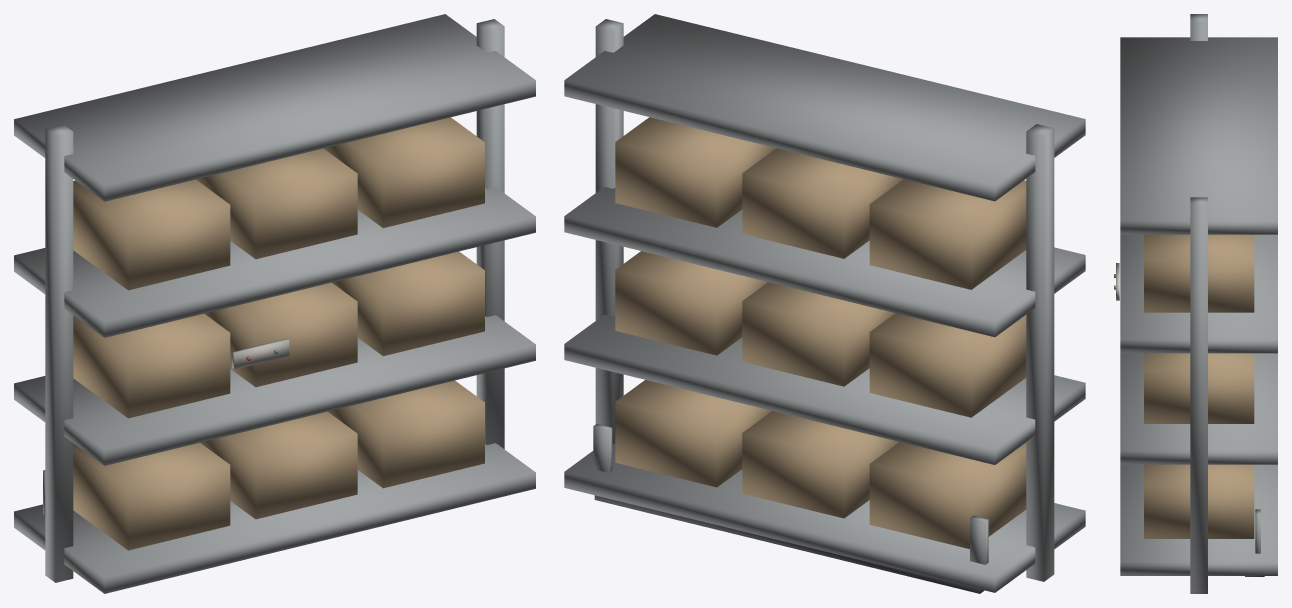
Rendered from warehouse_pallet_rack__reinforced.glb.
3 views of the same model, side by side, from view 1: azimuth 30°, elevation 25°; view 2: azimuth 150°, elevation 25°; view 3: azimuth 270°, elevation 25° (orthographic). The views are drawn at different scales.
Parts seen in each view (by area): view 1: world; view 2: world; view 3: world.
Part boxes in pixels (left/top/right/bottom): world: left=14, top=14, right=535, bottom=593; world: left=564, top=14, right=1085, bottom=593; world: left=1114, top=14, right=1277, bottom=593.
Bounding box in the file's own units: 2.36 × 2.24 × 0.8559.
